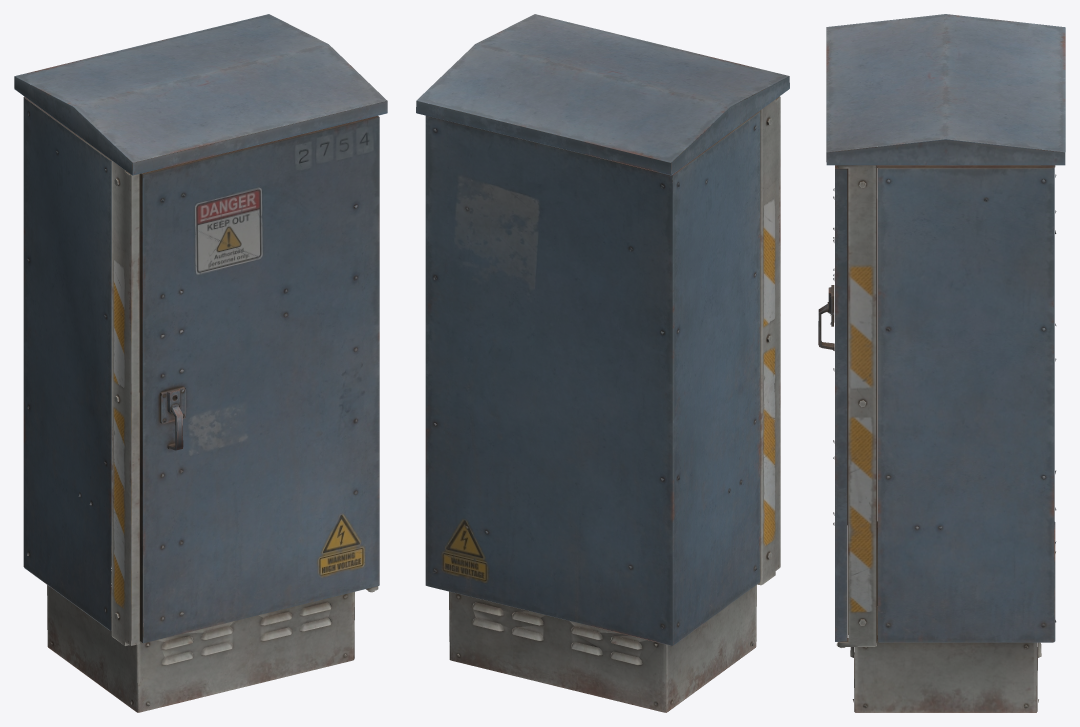
The model's file is utility_box.glb.
3 views of the same model, side by side, from view 1: azimuth 30°, elevation 25°; view 2: azimuth 150°, elevation 25°; view 3: azimuth 270°, elevation 25° (orthographic).
Visible parts, largest first — view 1: utility_box; view 2: utility_box; view 3: utility_box.
Boxes of the visible parts, x1,y1,x2,y2 form: utility_box: (14,14,387,712); utility_box: (416,14,789,712); utility_box: (818,14,1065,712).
Bounding box in the file's own units: 0.5178 × 1.12 × 0.4303.
1 material, 1 textured.
